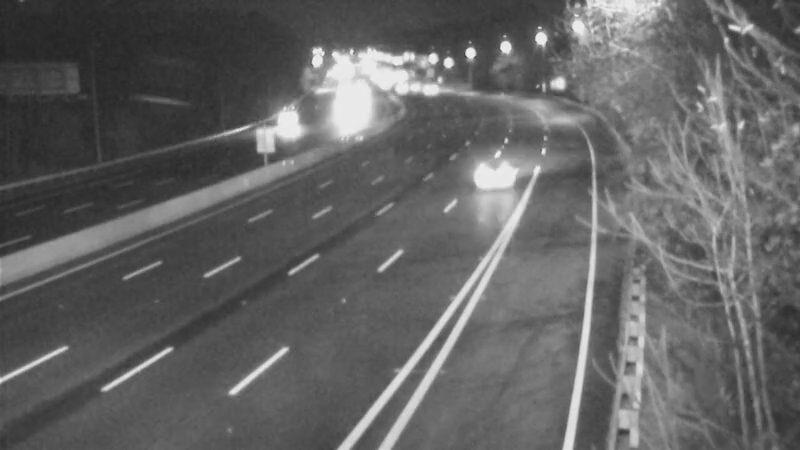vehicle: (458, 138, 538, 218), (253, 105, 303, 155)
